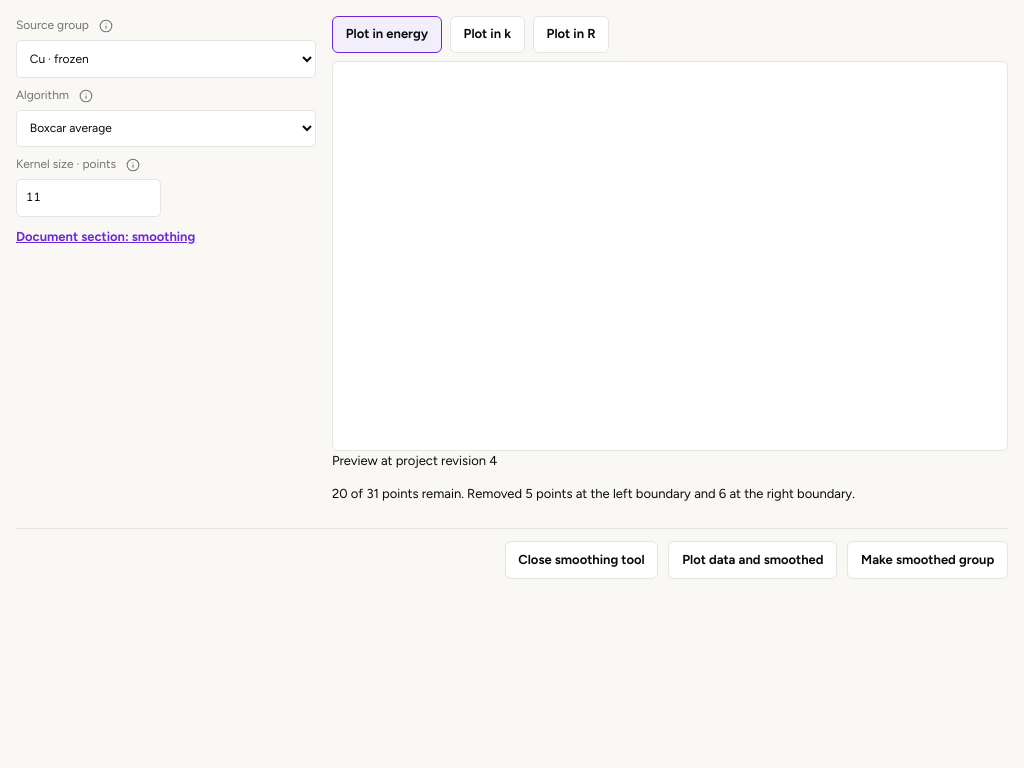
Scenario: keeps the draft and releases busy state after save returns conflict
Click the button "Make smoothed group". click: point(928, 560)
box: [847,541,1008,579]
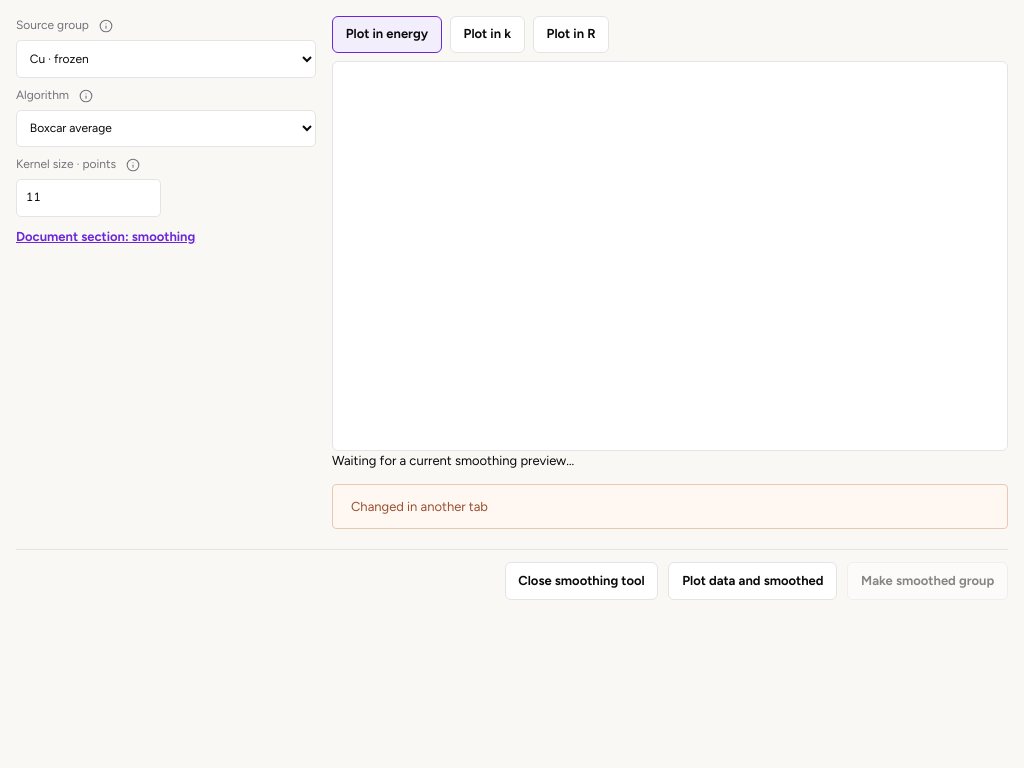
Check: the number field labelled "Kernel size · points" holds "11", box [16,179,161,217]
Check: the message "Changed in another tab" is shown, box [332,484,1008,529]
Check: the button "Make smoothed group" is disabled, box [847,562,1008,600]
Click the button "Plot data and smoothed". click: point(753, 581)
box: [668,562,837,600]
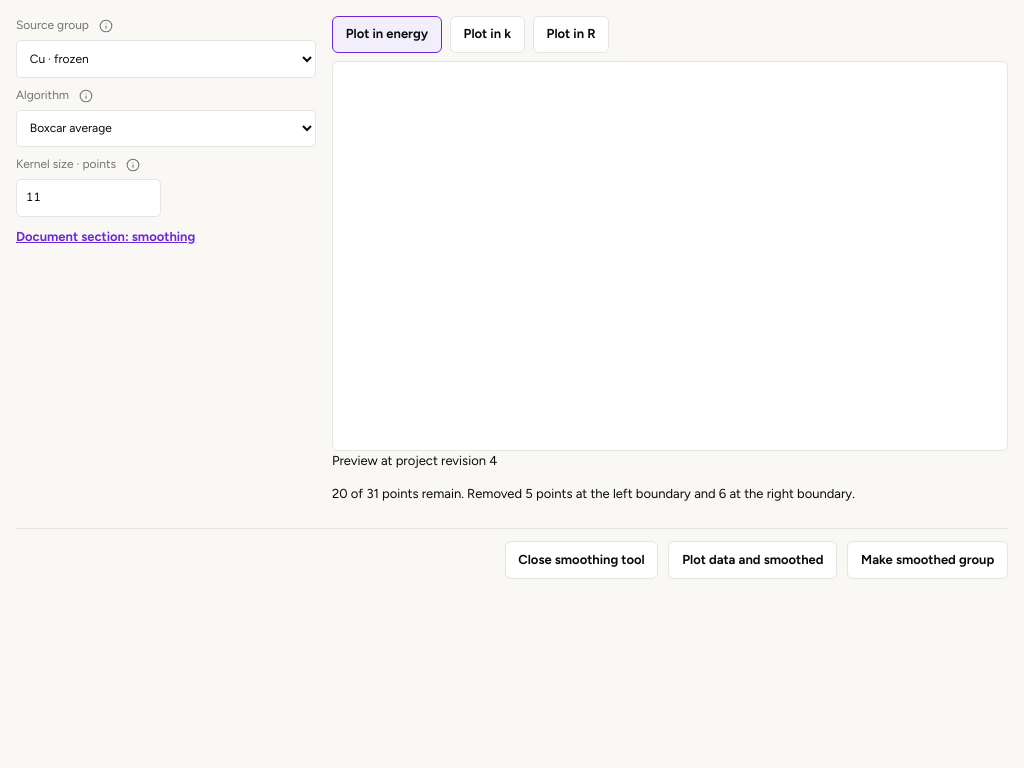
Check: the button "Make smoothed group" is enabled, box [847,541,1008,579]
